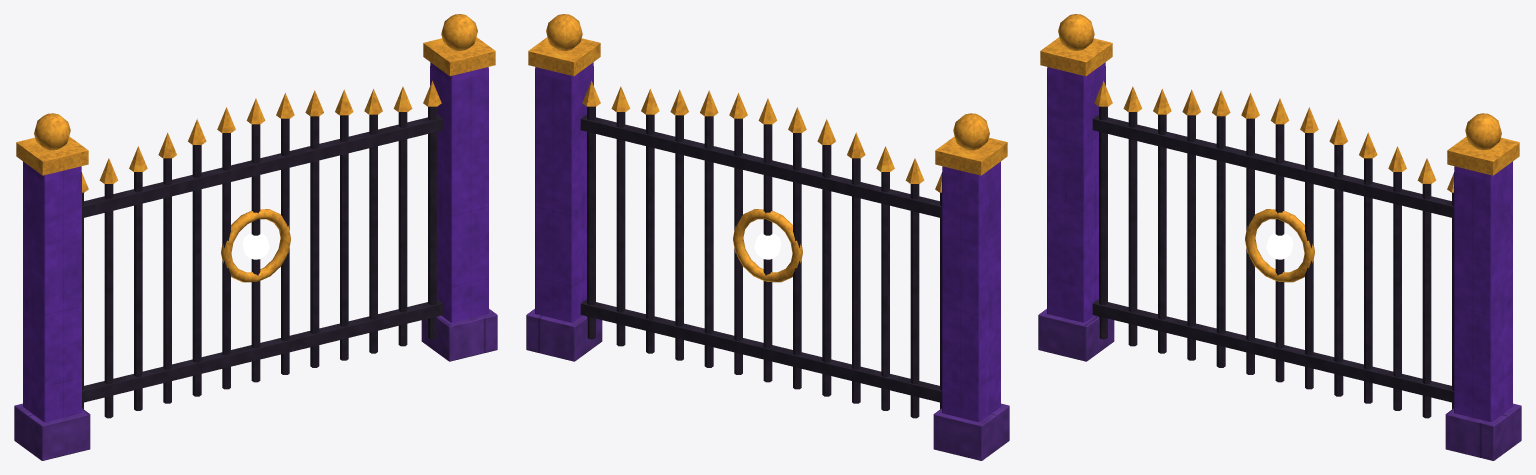
File: MO_Fence.fbx
3 renders of one model, left to right at view 1: azimuth 30°, elevation 25°; view 2: azimuth 150°, elevation 25°; view 3: azimuth 330°, elevation 25°, orthographic.
Visible parts, largest first — view 1: MO_Fence; view 2: MO_Fence; view 3: MO_Fence.
Boxes of the visible parts, box(x1,y1,x2,y2) form: MO_Fence: box(14, 14, 497, 460); MO_Fence: box(526, 14, 1009, 460); MO_Fence: box(1038, 14, 1521, 460).
Size of the model in its own units: 3.36 by 2.32 by 0.36.
